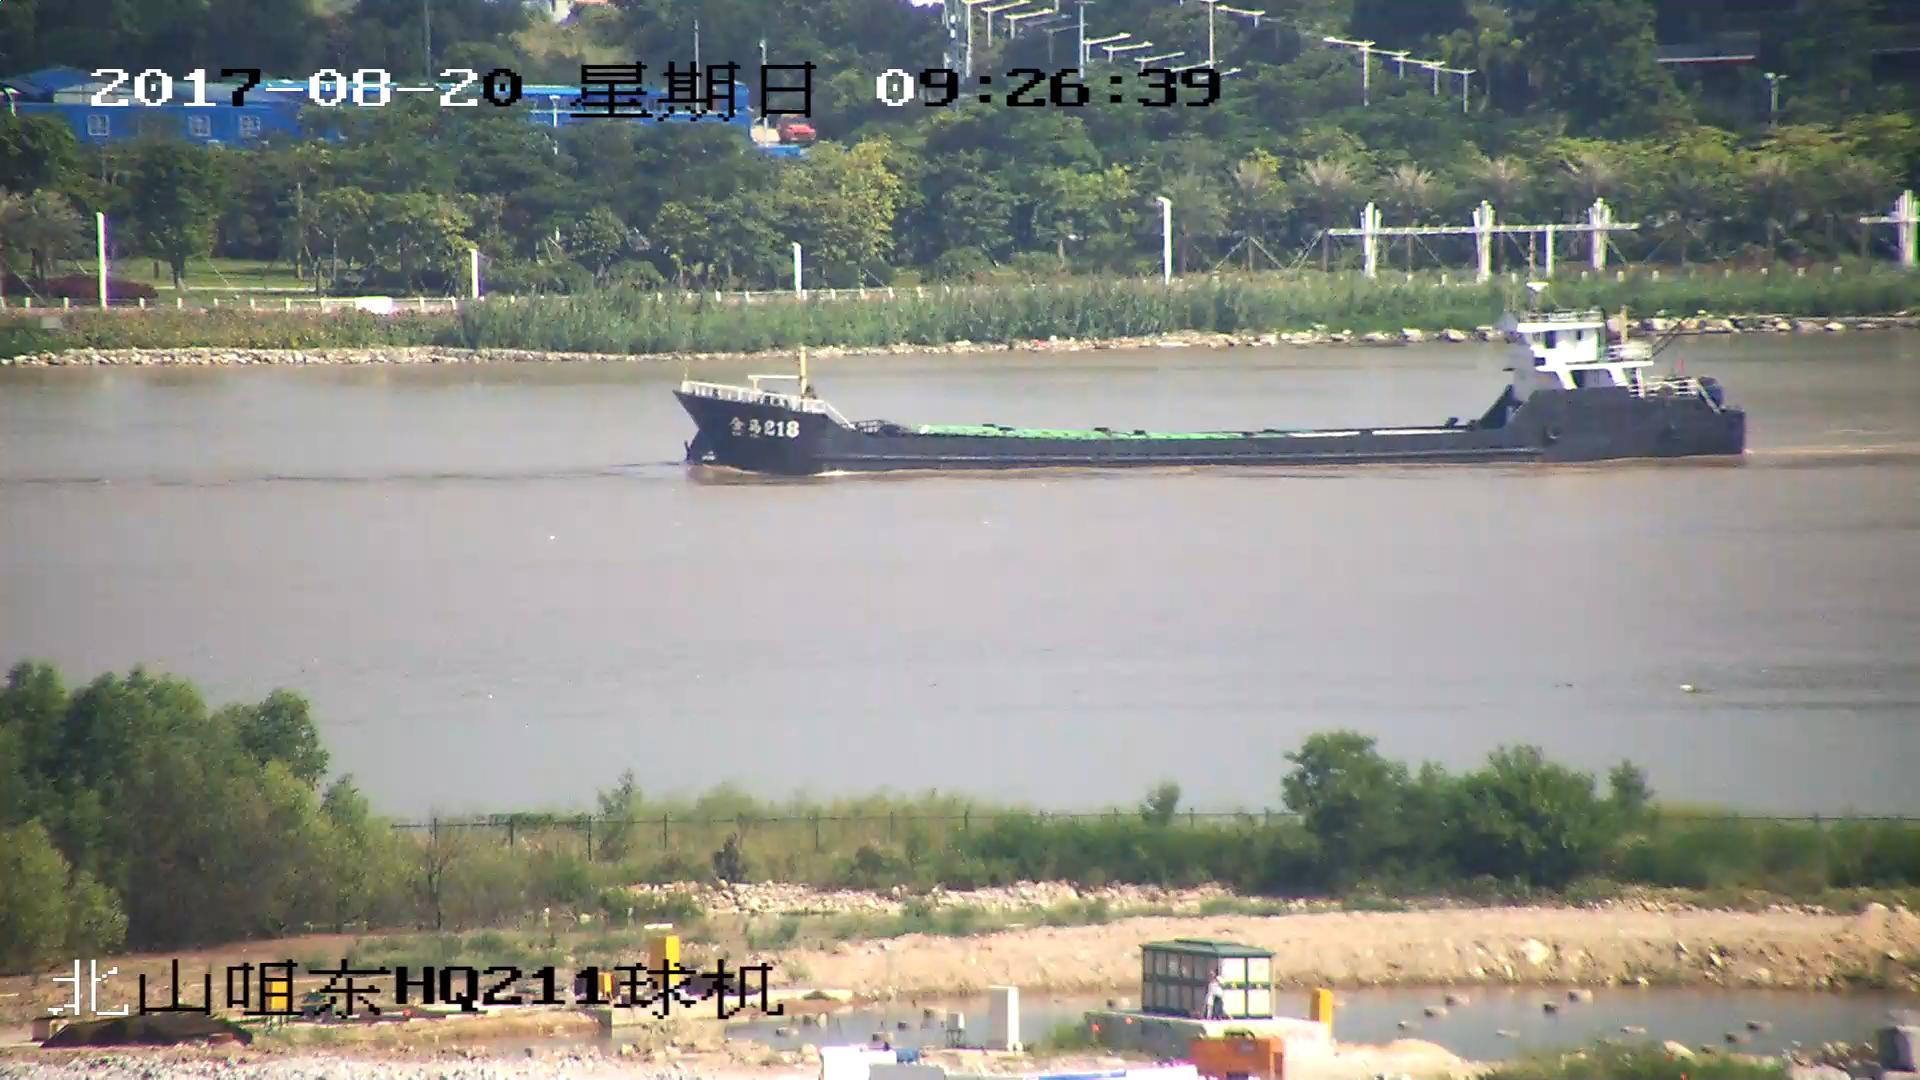Ship: (680, 305, 1749, 471)
